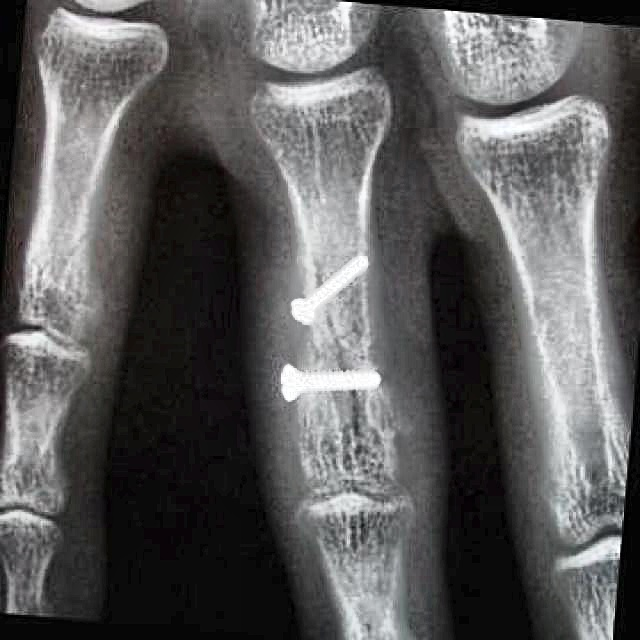Oblique Displaced: (310, 249, 379, 435)
